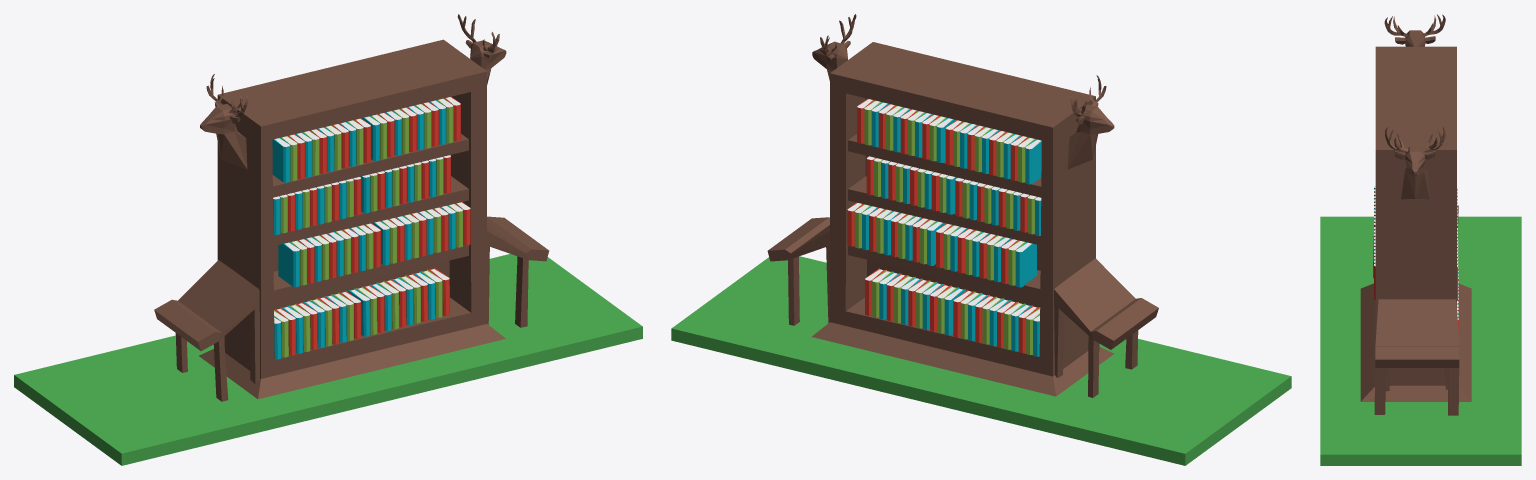
Rendered from Bookshelves combined by sirkitree - 16BGcazhzT2.glb.
3 renders of one model, left to right at view 1: azimuth 30°, elevation 25°; view 2: azimuth 150°, elevation 25°; view 3: azimuth 270°, elevation 25°, orthographic. The views are drawn at different scales.
Parts seen in each view (by area): view 1: group1306011736, group1003138624, group1295511530, group288516633, group584447715, group829559881, group1930501896, group1015678572, group793384762; view 2: group1003138624, group1295511530, group1306011736, group288516633, group584447715, group829559881, group1930501896, group568524671, group886227347; view 3: group1003138624, group1306011736, group1295511530, group584447715, group1930501896, group829559881.
Part boxes in pixels (x1,y1,x2,y2): group1306011736: [236, 55, 505, 399]; group1003138624: [14, 254, 642, 465]; group1295511530: [199, 39, 464, 382]; group288516633: [154, 260, 259, 401]; group584447715: [487, 216, 549, 327]; group829559881: [200, 74, 248, 169]; group1930501896: [457, 14, 506, 84]; group1015678572: [278, 242, 299, 287]; group793384762: [272, 138, 290, 182]; group1003138624: [671, 256, 1291, 465]; group1295511530: [811, 57, 1088, 396]; group1306011736: [852, 42, 1114, 366]; group288516633: [1054, 258, 1158, 397]; group584447715: [767, 217, 829, 325]; group829559881: [1067, 75, 1114, 169]; group1930501896: [812, 14, 856, 80]; group568524671: [1015, 242, 1036, 287]; group886227347: [1025, 139, 1041, 184]; group1003138624: [1320, 216, 1521, 465]; group1306011736: [1360, 46, 1416, 401]; group1295511530: [1401, 46, 1471, 401]; group584447715: [1374, 299, 1459, 415]; group1930501896: [1385, 126, 1445, 199]; group829559881: [1384, 14, 1445, 46].
Size of the model in its own units: 3.55 by 2 by 1.27.
